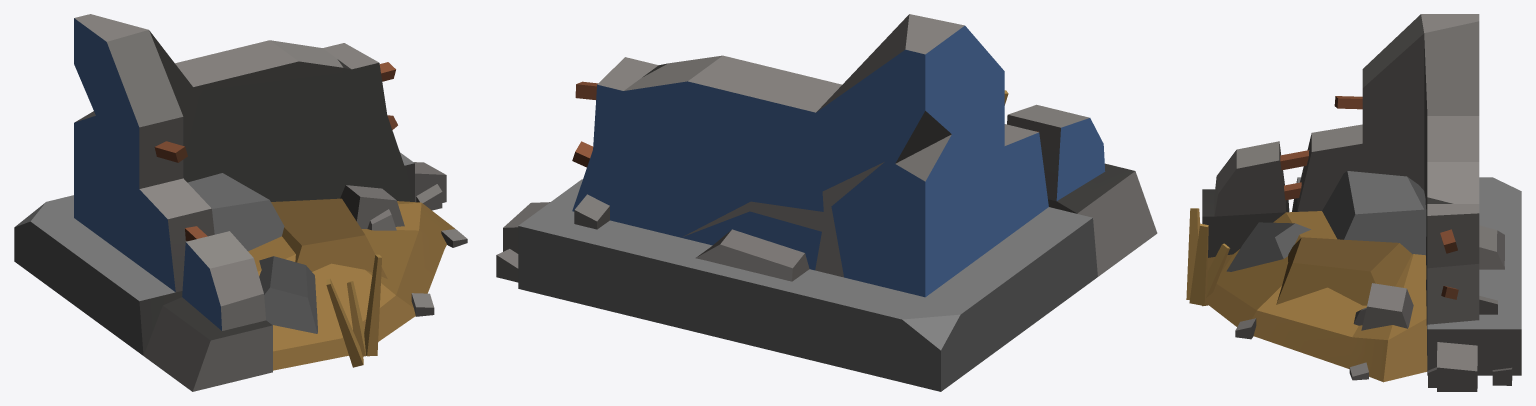
File: BuildingRuin_05.fbx
The picture shows the model from 3 angles, left to right: view 1: azimuth 30°, elevation 25°; view 2: azimuth 150°, elevation 25°; view 3: azimuth 270°, elevation 25°; orthographic projection. The views are drawn at different scales.
Visible parts, largest first — view 1: BuildingRuin_05; view 2: BuildingRuin_05; view 3: BuildingRuin_05.
Part boxes in pixels (<box>): BuildingRuin_05: <box>14,14,467,391</box>; BuildingRuin_05: <box>496,14,1157,391</box>; BuildingRuin_05: <box>1186,14,1521,391</box>.
Size of the model in its own units: 3.29 by 2.77 by 2.13.
